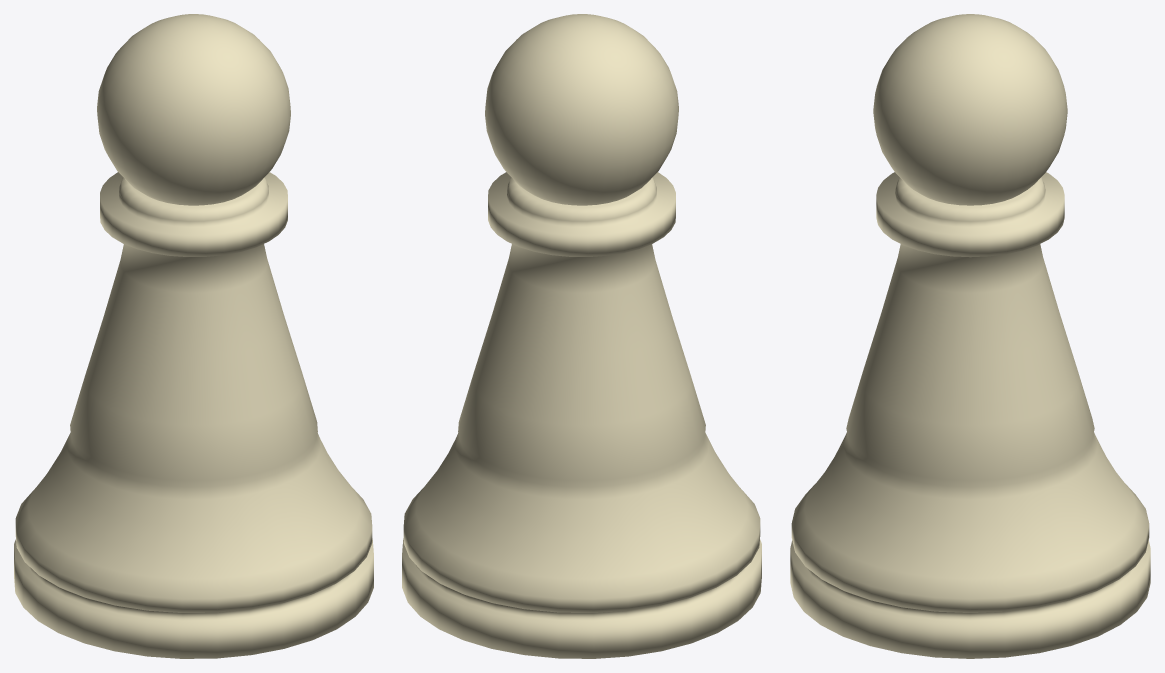
File: pawn_white.gltf
3 views of the same model, side by side, from view 1: azimuth 30°, elevation 25°; view 2: azimuth 150°, elevation 25°; view 3: azimuth 270°, elevation 25° (orthographic).
Visible parts, largest first — view 1: pawn_white; view 2: pawn_white; view 3: pawn_white.
Part boxes in pixels (x1=…): pawn_white: x1=14, y1=14, x2=373, y2=658; pawn_white: x1=402, y1=14, x2=761, y2=658; pawn_white: x1=790, y1=14, x2=1150, y2=658.
Bounding box in the file's own units: 1.04 × 1.78 × 1.04.
